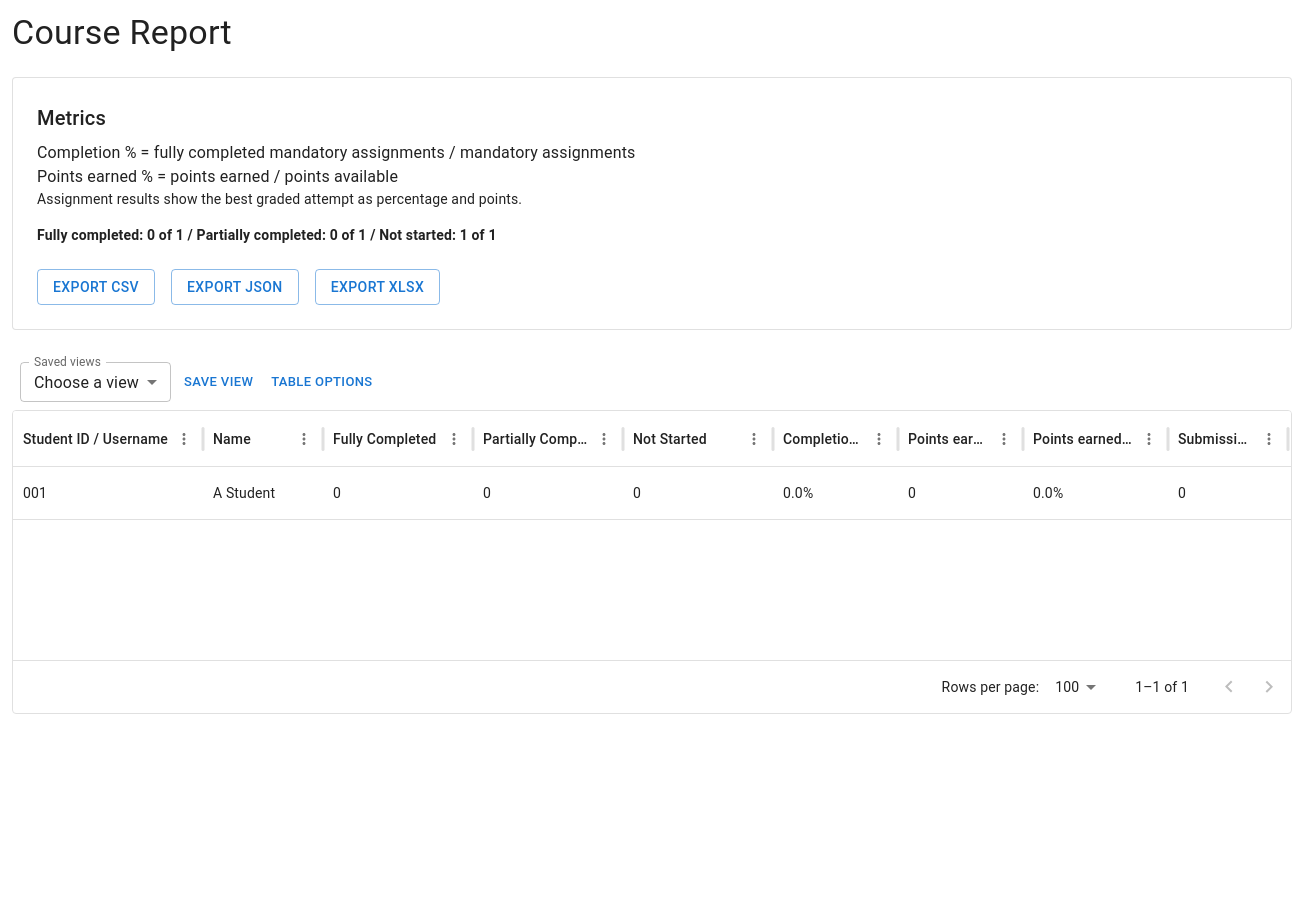
Test case: the course report › reports a failed export without leaving the page
What coordinates should you click on to do the following:
click the button "Export CSV"
I would click on:
 (96, 287)
Its box is [37, 269, 155, 305].
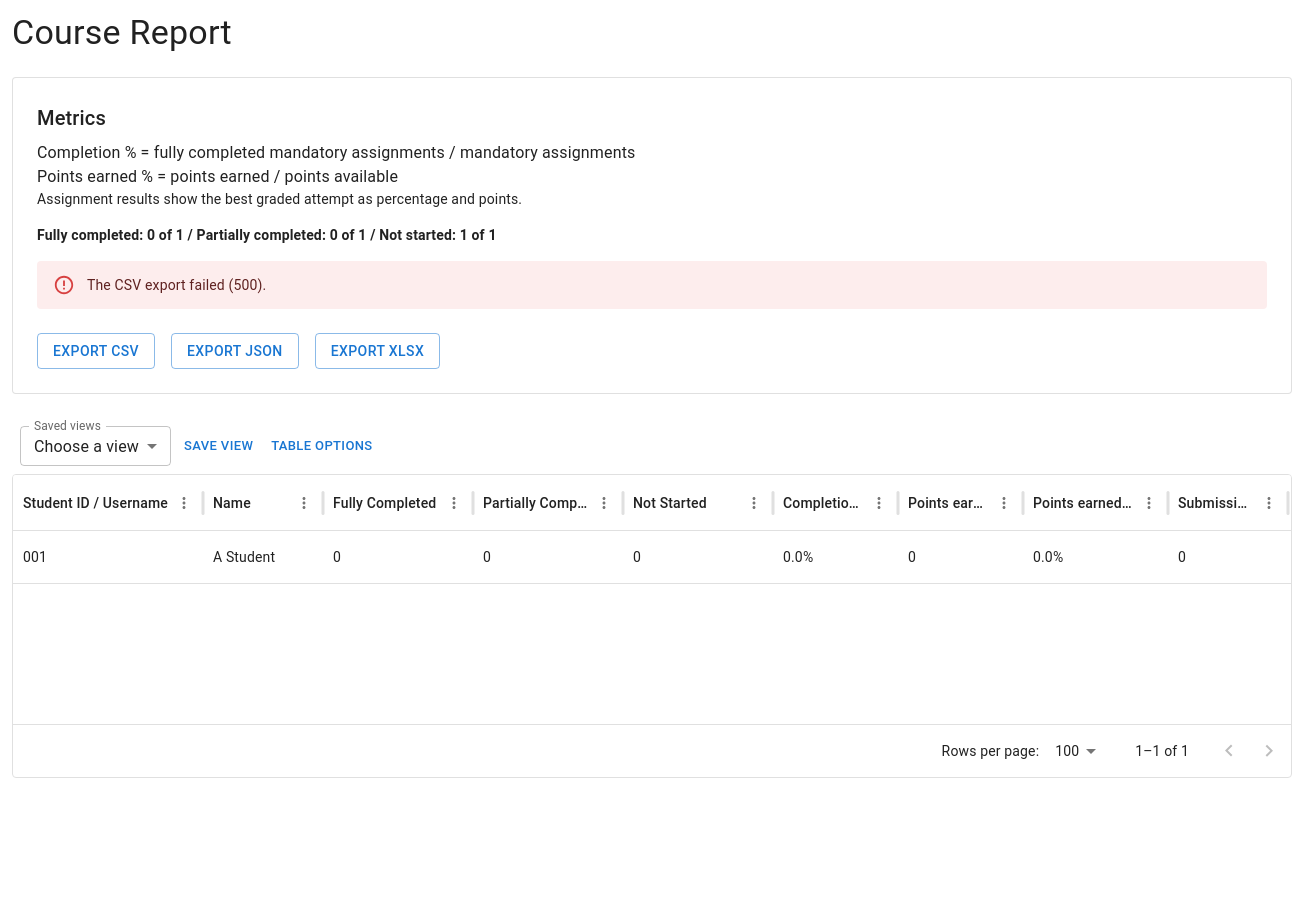
Check: the heading "Course Report" is shown, box [12, 12, 232, 52]
Check: the text "The CSV export failed (500)." is shown, box [87, 277, 266, 293]
